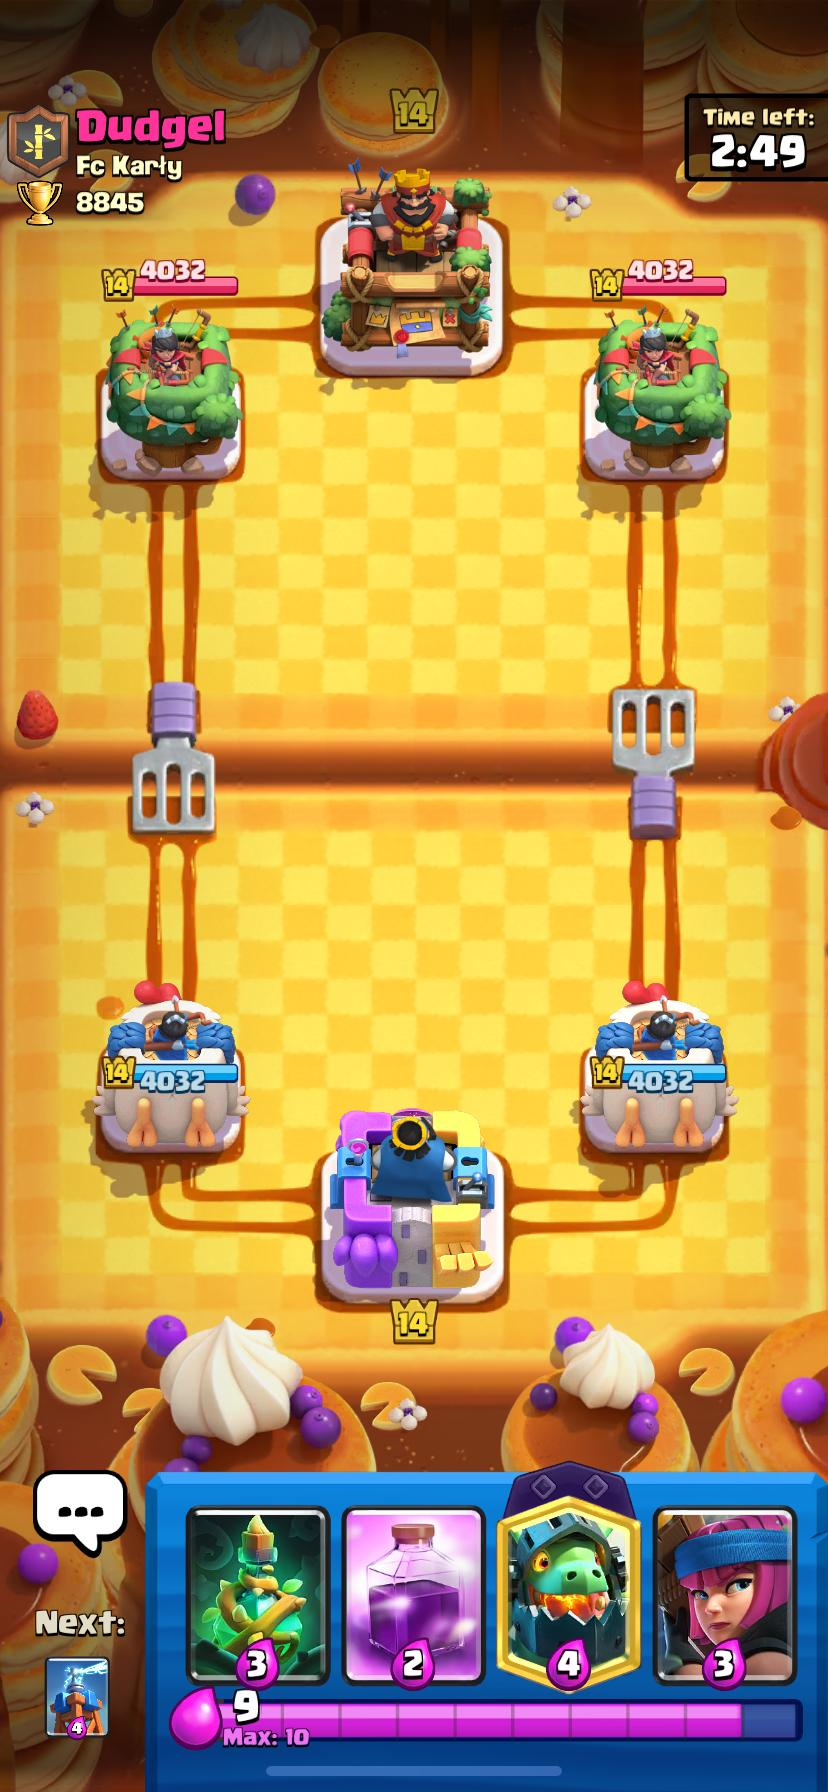EKingTower: (323, 170, 491, 351)
EnemyPrincessTower: (594, 311, 729, 473), (108, 311, 241, 466)
OwnKingTower: (331, 1109, 493, 1301)
OwnPrincessTower: (580, 982, 735, 1151), (93, 983, 248, 1151)
